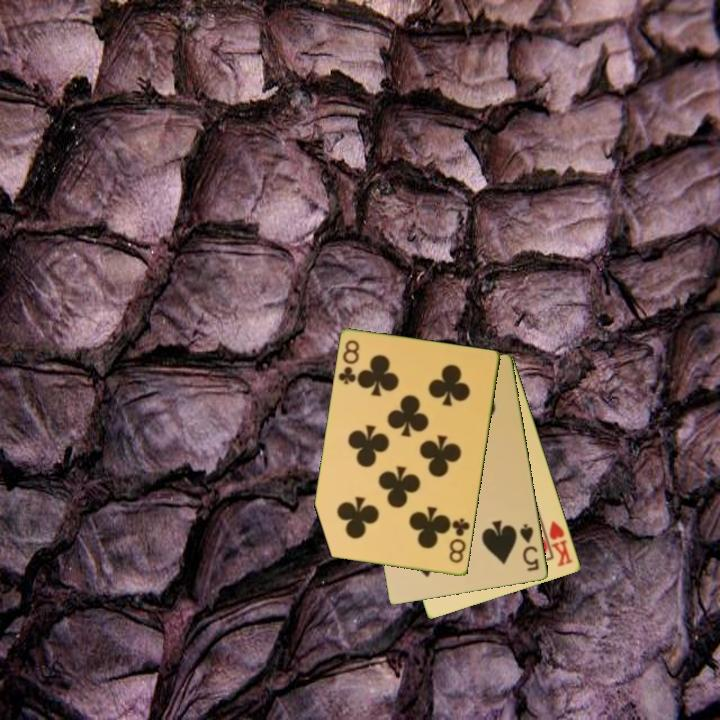5s: (516, 520, 542, 574)
8c: (335, 337, 363, 388), (446, 515, 473, 566)
Kh: (539, 518, 576, 570)
